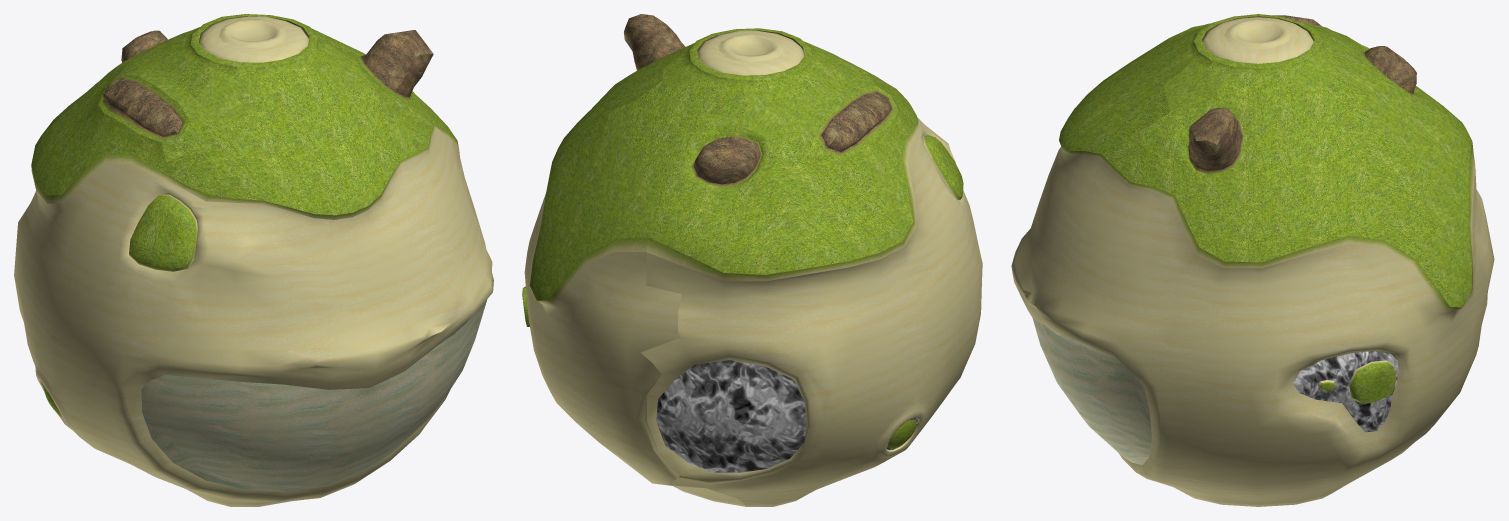
The model's file is coconut_b.fbx.
3 renders of one model, left to right at view 1: azimuth 30°, elevation 25°; view 2: azimuth 150°, elevation 25°; view 3: azimuth 270°, elevation 25°, orthographic. The views are drawn at different scales.
Visible parts, largest first — view 1: n2b3, n1b4, n5b1, n4b7, n3b5, n6b8; view 2: n2b3, n1b4, n7b0, n4b7, n3b5, n6b8; view 3: n2b3, n1b4, n5b1, n4b7, n3b5, n7b0, n6b8.
Boxes of the visible parts, x1=… form: n2b3: x1=14, y1=16, x2=493, y2=506; n1b4: x1=31, y1=14, x2=456, y2=416; n5b1: x1=141, y1=299, x2=487, y2=491; n4b7: x1=103, y1=30, x2=433, y2=136; n3b5: x1=31, y1=124, x2=458, y2=271; n6b8: x1=102, y1=16, x2=410, y2=138; n2b3: x1=524, y1=30, x2=982, y2=506; n1b4: x1=522, y1=28, x2=963, y2=448; n7b0: x1=656, y1=360, x2=917, y2=472; n4b7: x1=624, y1=14, x2=891, y2=184; n3b5: x1=534, y1=116, x2=961, y2=304; n6b8: x1=649, y1=30, x2=894, y2=186; n2b3: x1=1011, y1=17, x2=1494, y2=506; n1b4: x1=1059, y1=14, x2=1472, y2=403; n5b1: x1=1032, y1=318, x2=1151, y2=464; n4b7: x1=1188, y1=15, x2=1416, y2=170; n3b5: x1=1060, y1=142, x2=1475, y2=402; n7b0: x1=1293, y1=351, x2=1398, y2=432; n6b8: x1=1188, y1=16, x2=1414, y2=173.
Bounding box in the file's own units: 2049 × 2231 × 2141.
Materials: 8 (8 with a texture image).
